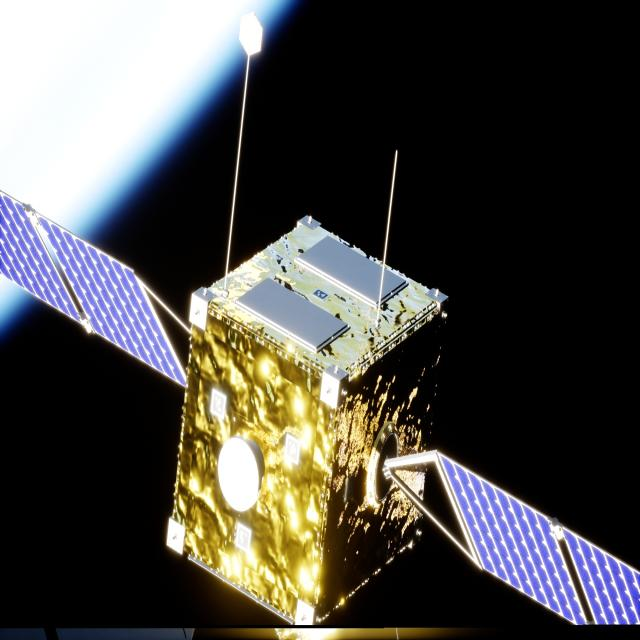satellite: (0, 192, 640, 628)
